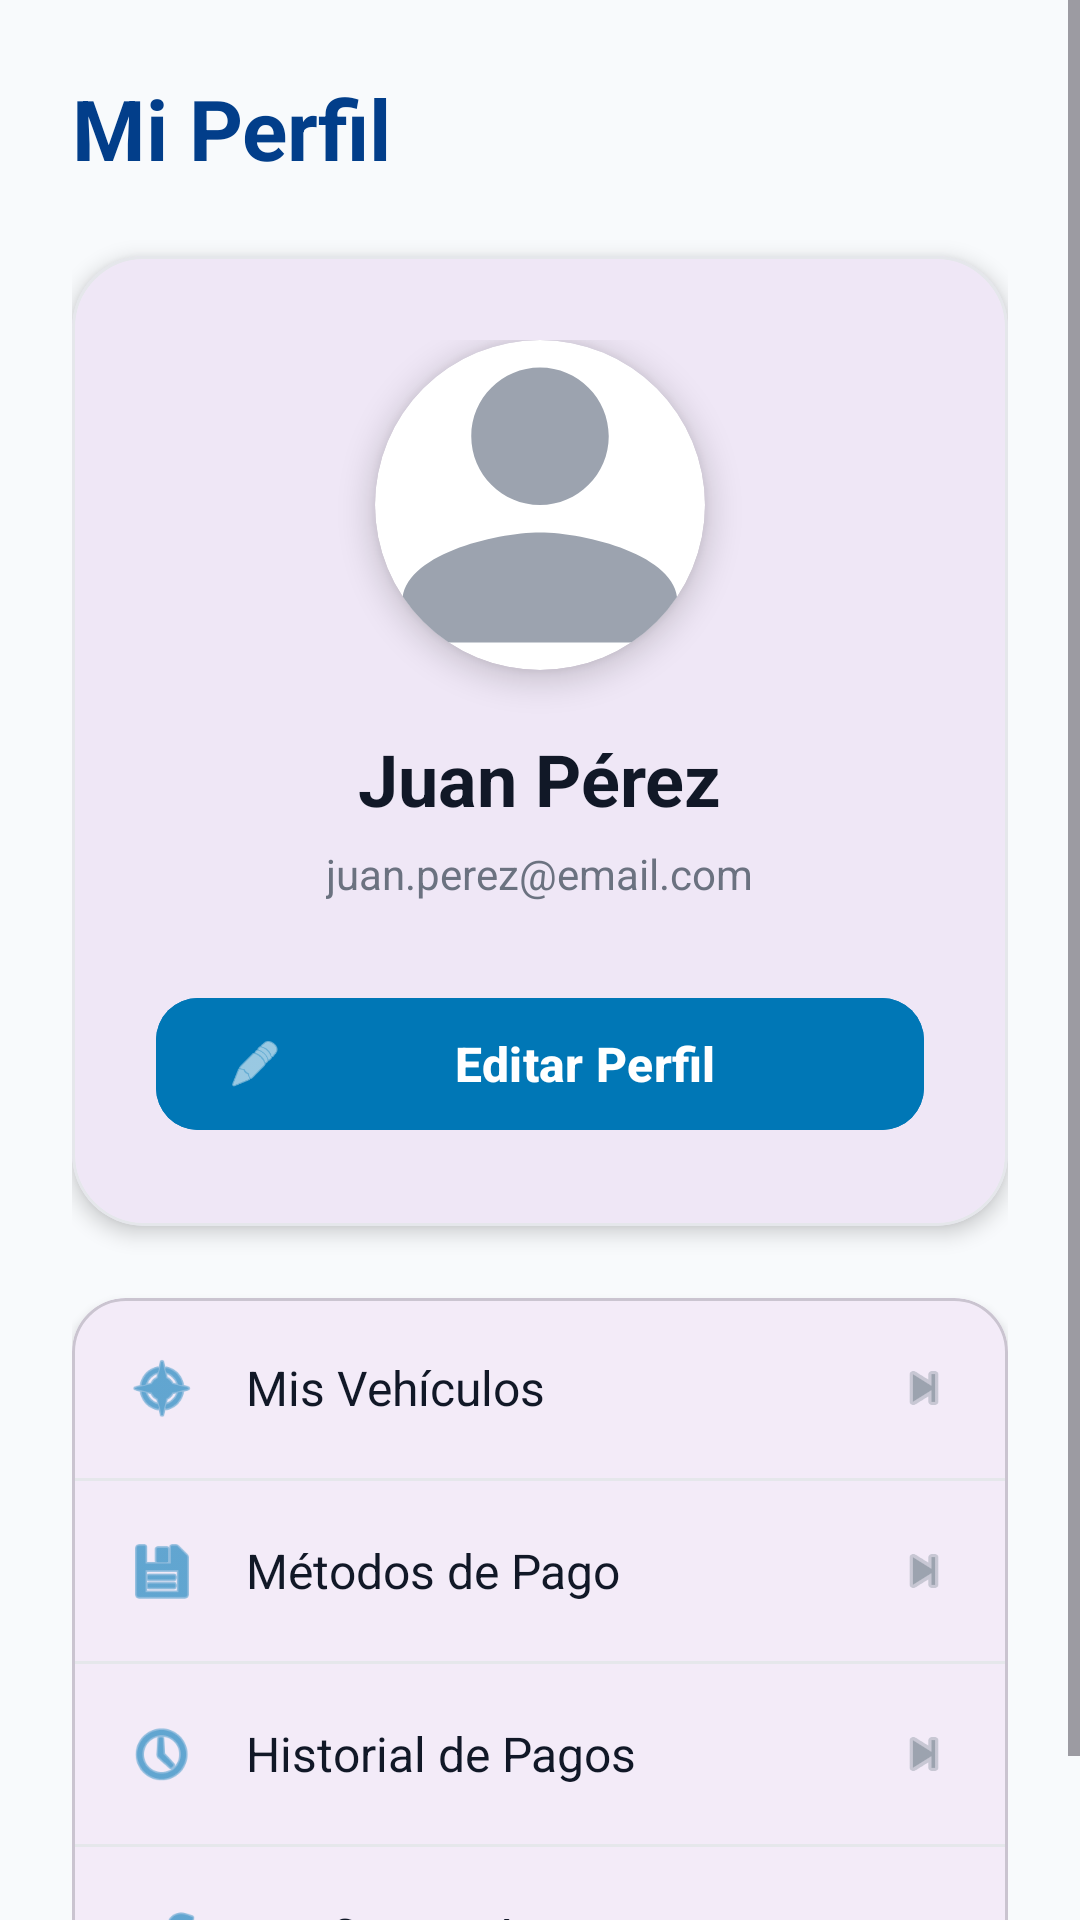

Named icons in this screenshot (1080x1920) and their bounding boxes, BBox(x1, y1, x2, y2):
compass: BBox(133, 1360, 190, 1417)
recent history: BBox(135, 1728, 188, 1780)
save: BBox(135, 1544, 189, 1599)
